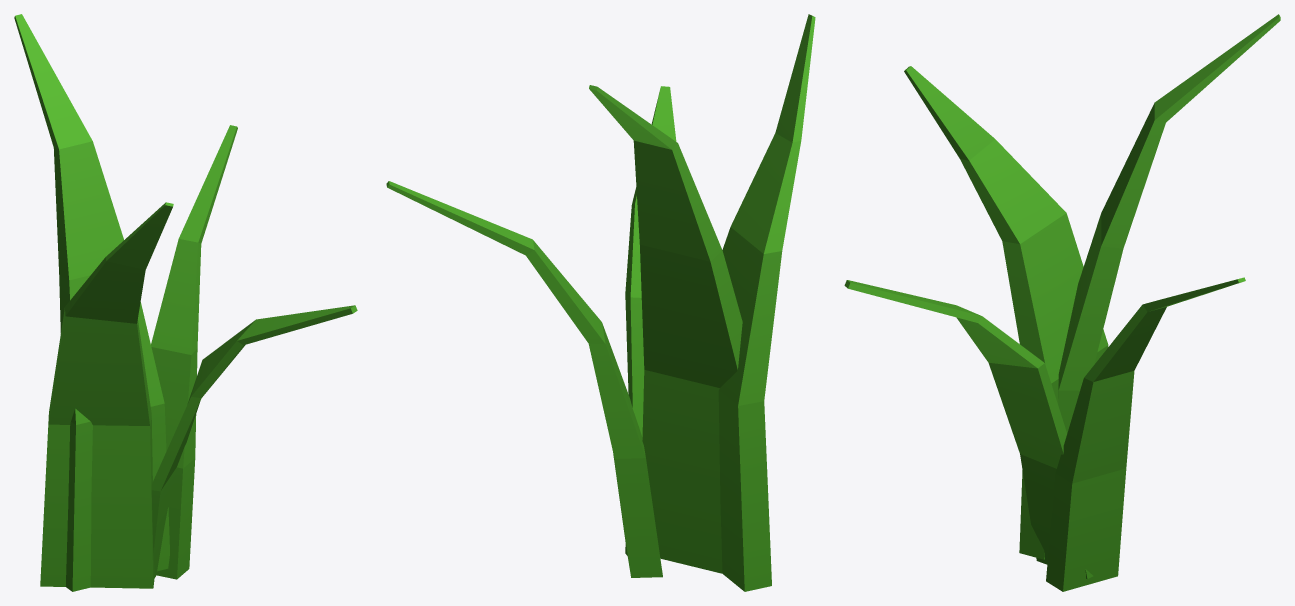
The model's file is grass_1.fbx.
The picture shows the model from 3 angles, left to right: view 1: azimuth 30°, elevation 25°; view 2: azimuth 150°, elevation 25°; view 3: azimuth 270°, elevation 25°; orthographic projection. The views are drawn at different scales.
Parts seen in each view (by area): view 1: grass 1; view 2: grass 1; view 3: grass 1.
Boxes of the visible parts, x1,y1,x2,y2 form: grass 1: (14,14,357,591); grass 1: (386,14,815,591); grass 1: (844,14,1280,591).
Bounding box in the file's own units: 0.7065 × 0.5438 × 0.9631.
